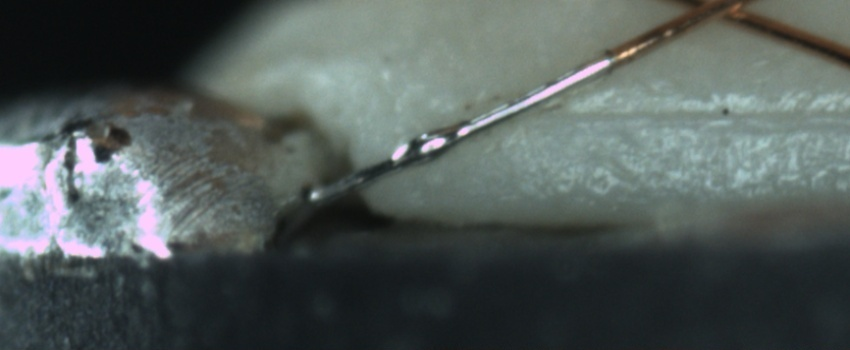CL: (671, 0, 762, 29)
DL: (540, 83, 849, 142)
TS: (304, 53, 617, 205)
TTCW: (299, 28, 660, 212)
